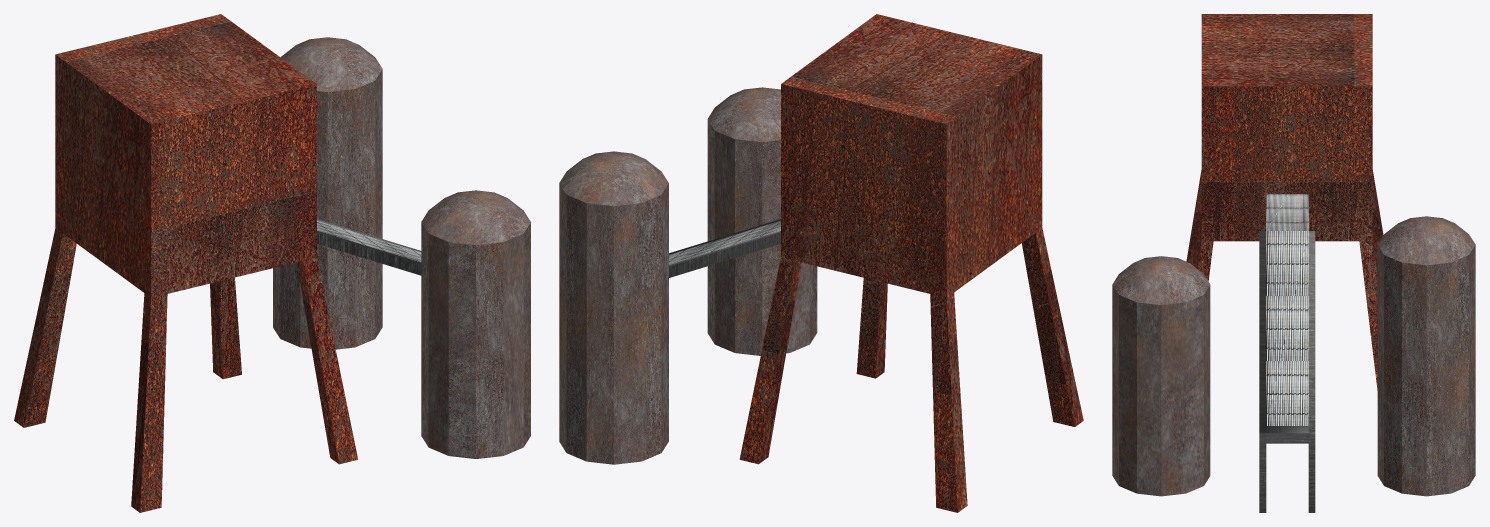
File: SteelMine.fbx
The picture shows the model from 3 angles, left to right: view 1: azimuth 30°, elevation 25°; view 2: azimuth 150°, elevation 25°; view 3: azimuth 270°, elevation 25°; orthographic projection. The views are drawn at different scales.
Parts seen in each view (by area): view 1: pCube3; view 2: pCube3; view 3: pCube3.
Part boxes in pixels (<box>): pCube3: <box>14,14,530,512</box>; pCube3: <box>559,14,1083,512</box>; pCube3: <box>1112,14,1475,512</box>.
Size of the model in its own units: 22.56 by 19.52 by 19.37.
Materials: 4 (4 with a texture image).
